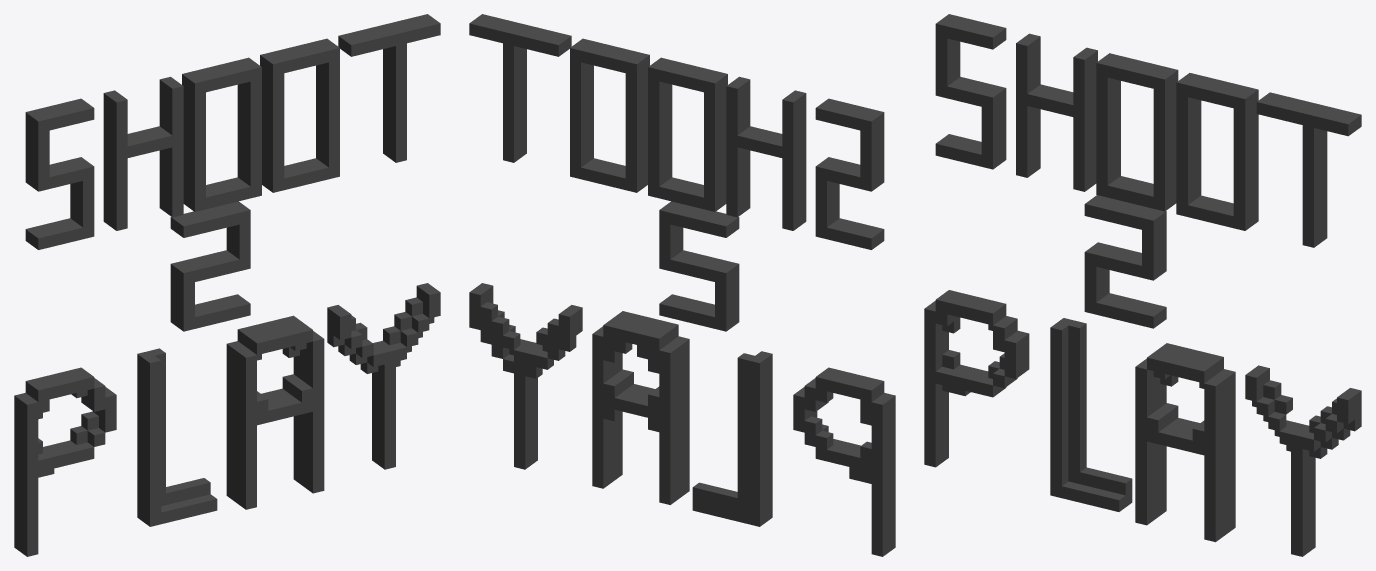
File: play.obj
3 renders of one model, left to right at view 1: azimuth 30°, elevation 25°; view 2: azimuth 150°, elevation 25°; view 3: azimuth 330°, elevation 25°, orthographic. The views are drawn at different scales.
Size of the model in its own units: 3.7 by 3.7 by 0.3.
